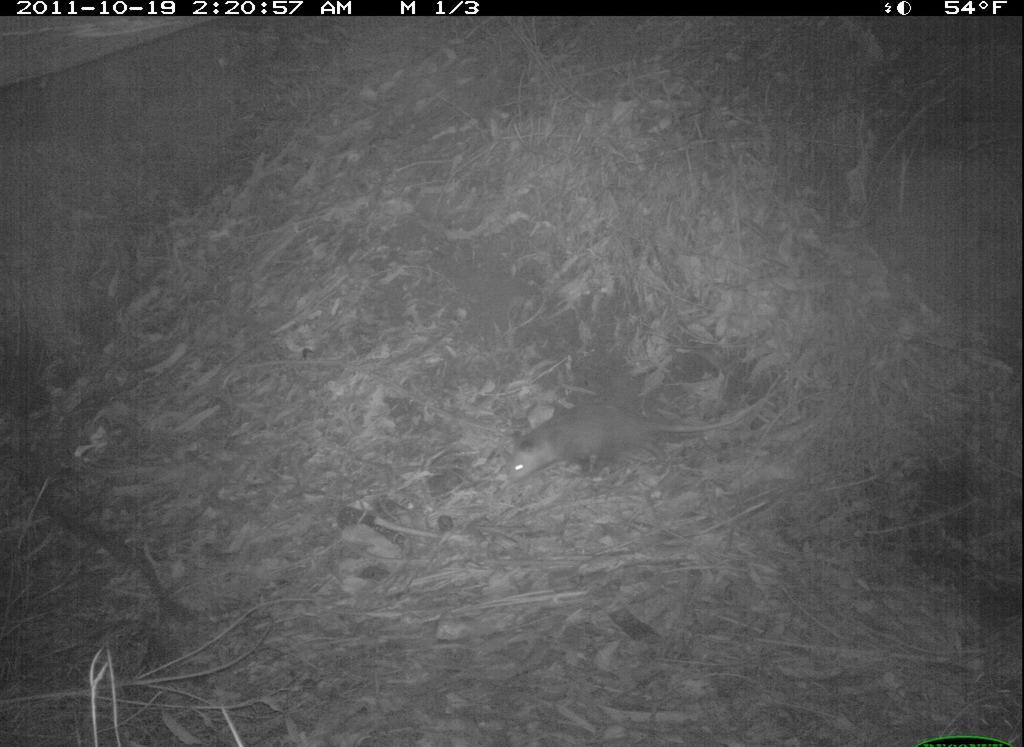opossum: (504, 380, 770, 510)
